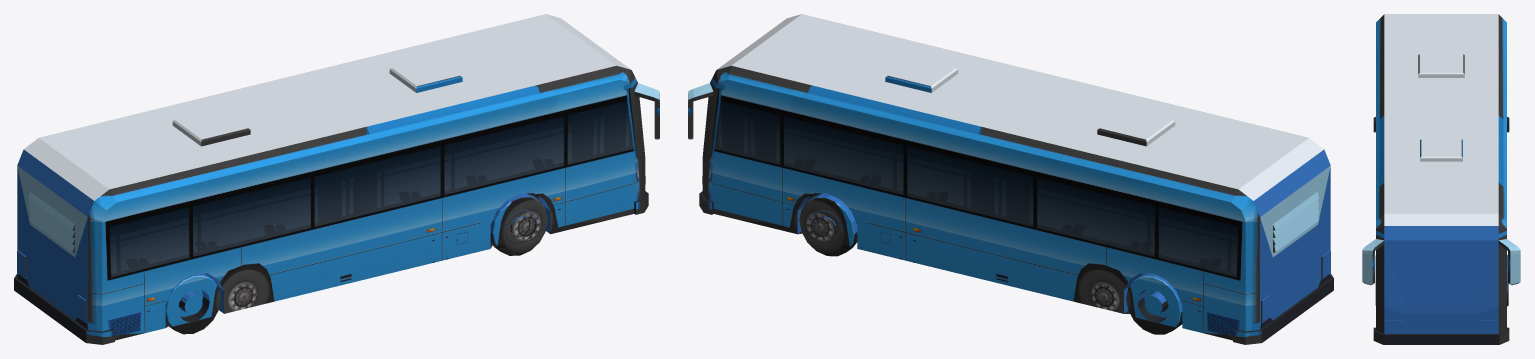
The model's file is bus.glb.
3 renders of one model, left to right at view 1: azimuth 30°, elevation 25°; view 2: azimuth 150°, elevation 25°; view 3: azimuth 270°, elevation 25°, orthographic. The views are drawn at different scales.
Visible parts, largest first — view 1: bus; view 2: bus; view 3: bus.
Boxes of the visible parts, x1,y1,x2,y2 form: bus: (14, 14, 659, 344); bus: (688, 14, 1333, 344); bus: (1362, 14, 1520, 344).
Bounding box in the file's own units: 9.05 × 2.55 × 2.71.
5 materials, 1 textured.
